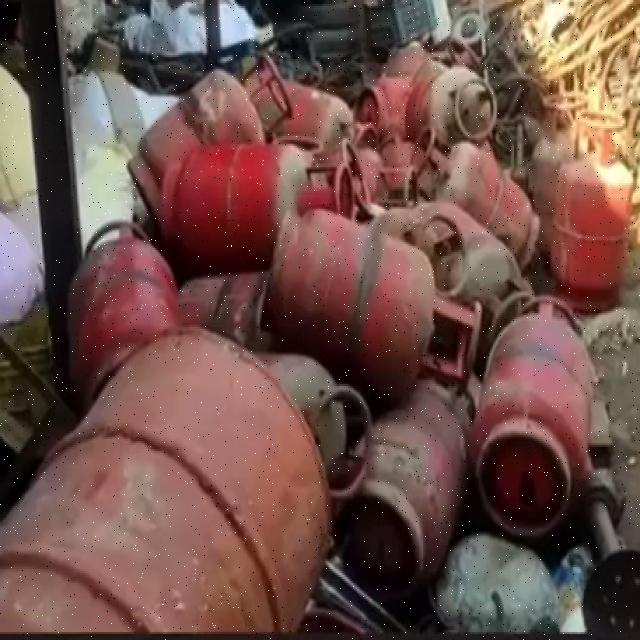cylinder: (269, 208, 482, 398), (468, 295, 595, 540), (127, 51, 293, 235), (68, 221, 182, 408), (159, 145, 353, 251), (409, 124, 541, 271), (551, 109, 632, 309)
